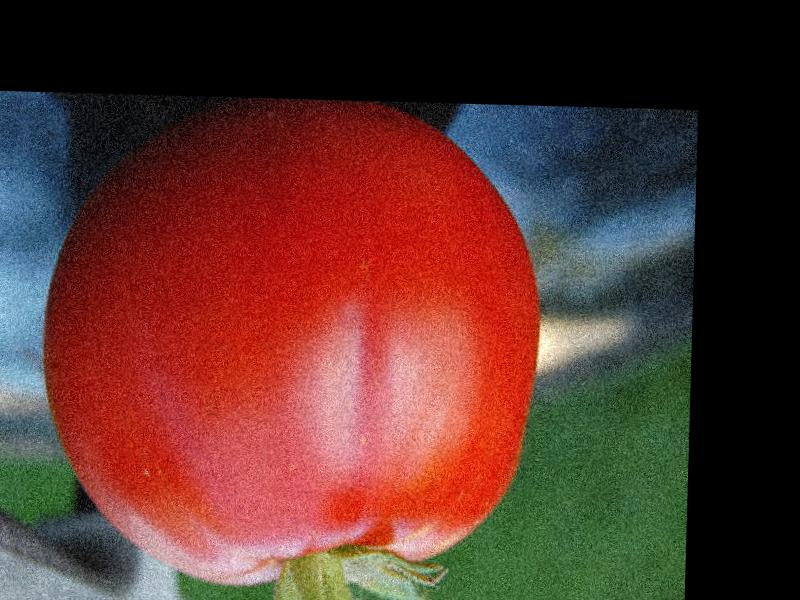Tomato: (36, 91, 546, 593)
